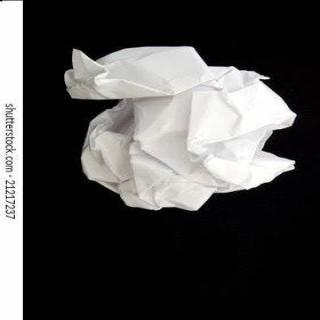Anorganik: (55, 36, 305, 217)
